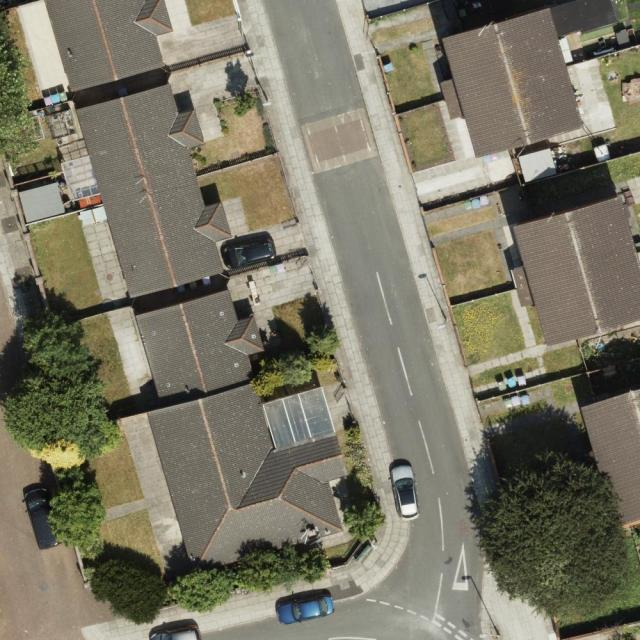roof: (136, 288, 349, 579), (77, 82, 233, 301), (438, 8, 583, 160), (512, 194, 640, 347), (45, 0, 173, 94), (578, 389, 640, 532)
